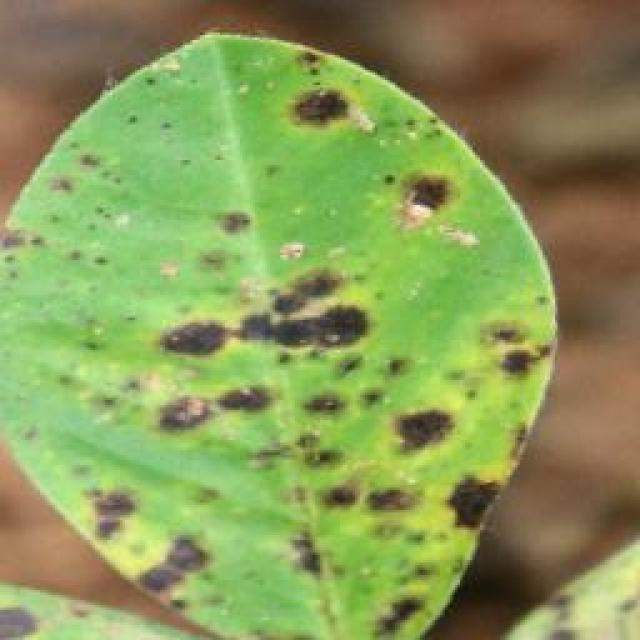Yellowish: (4, 31, 554, 640)
